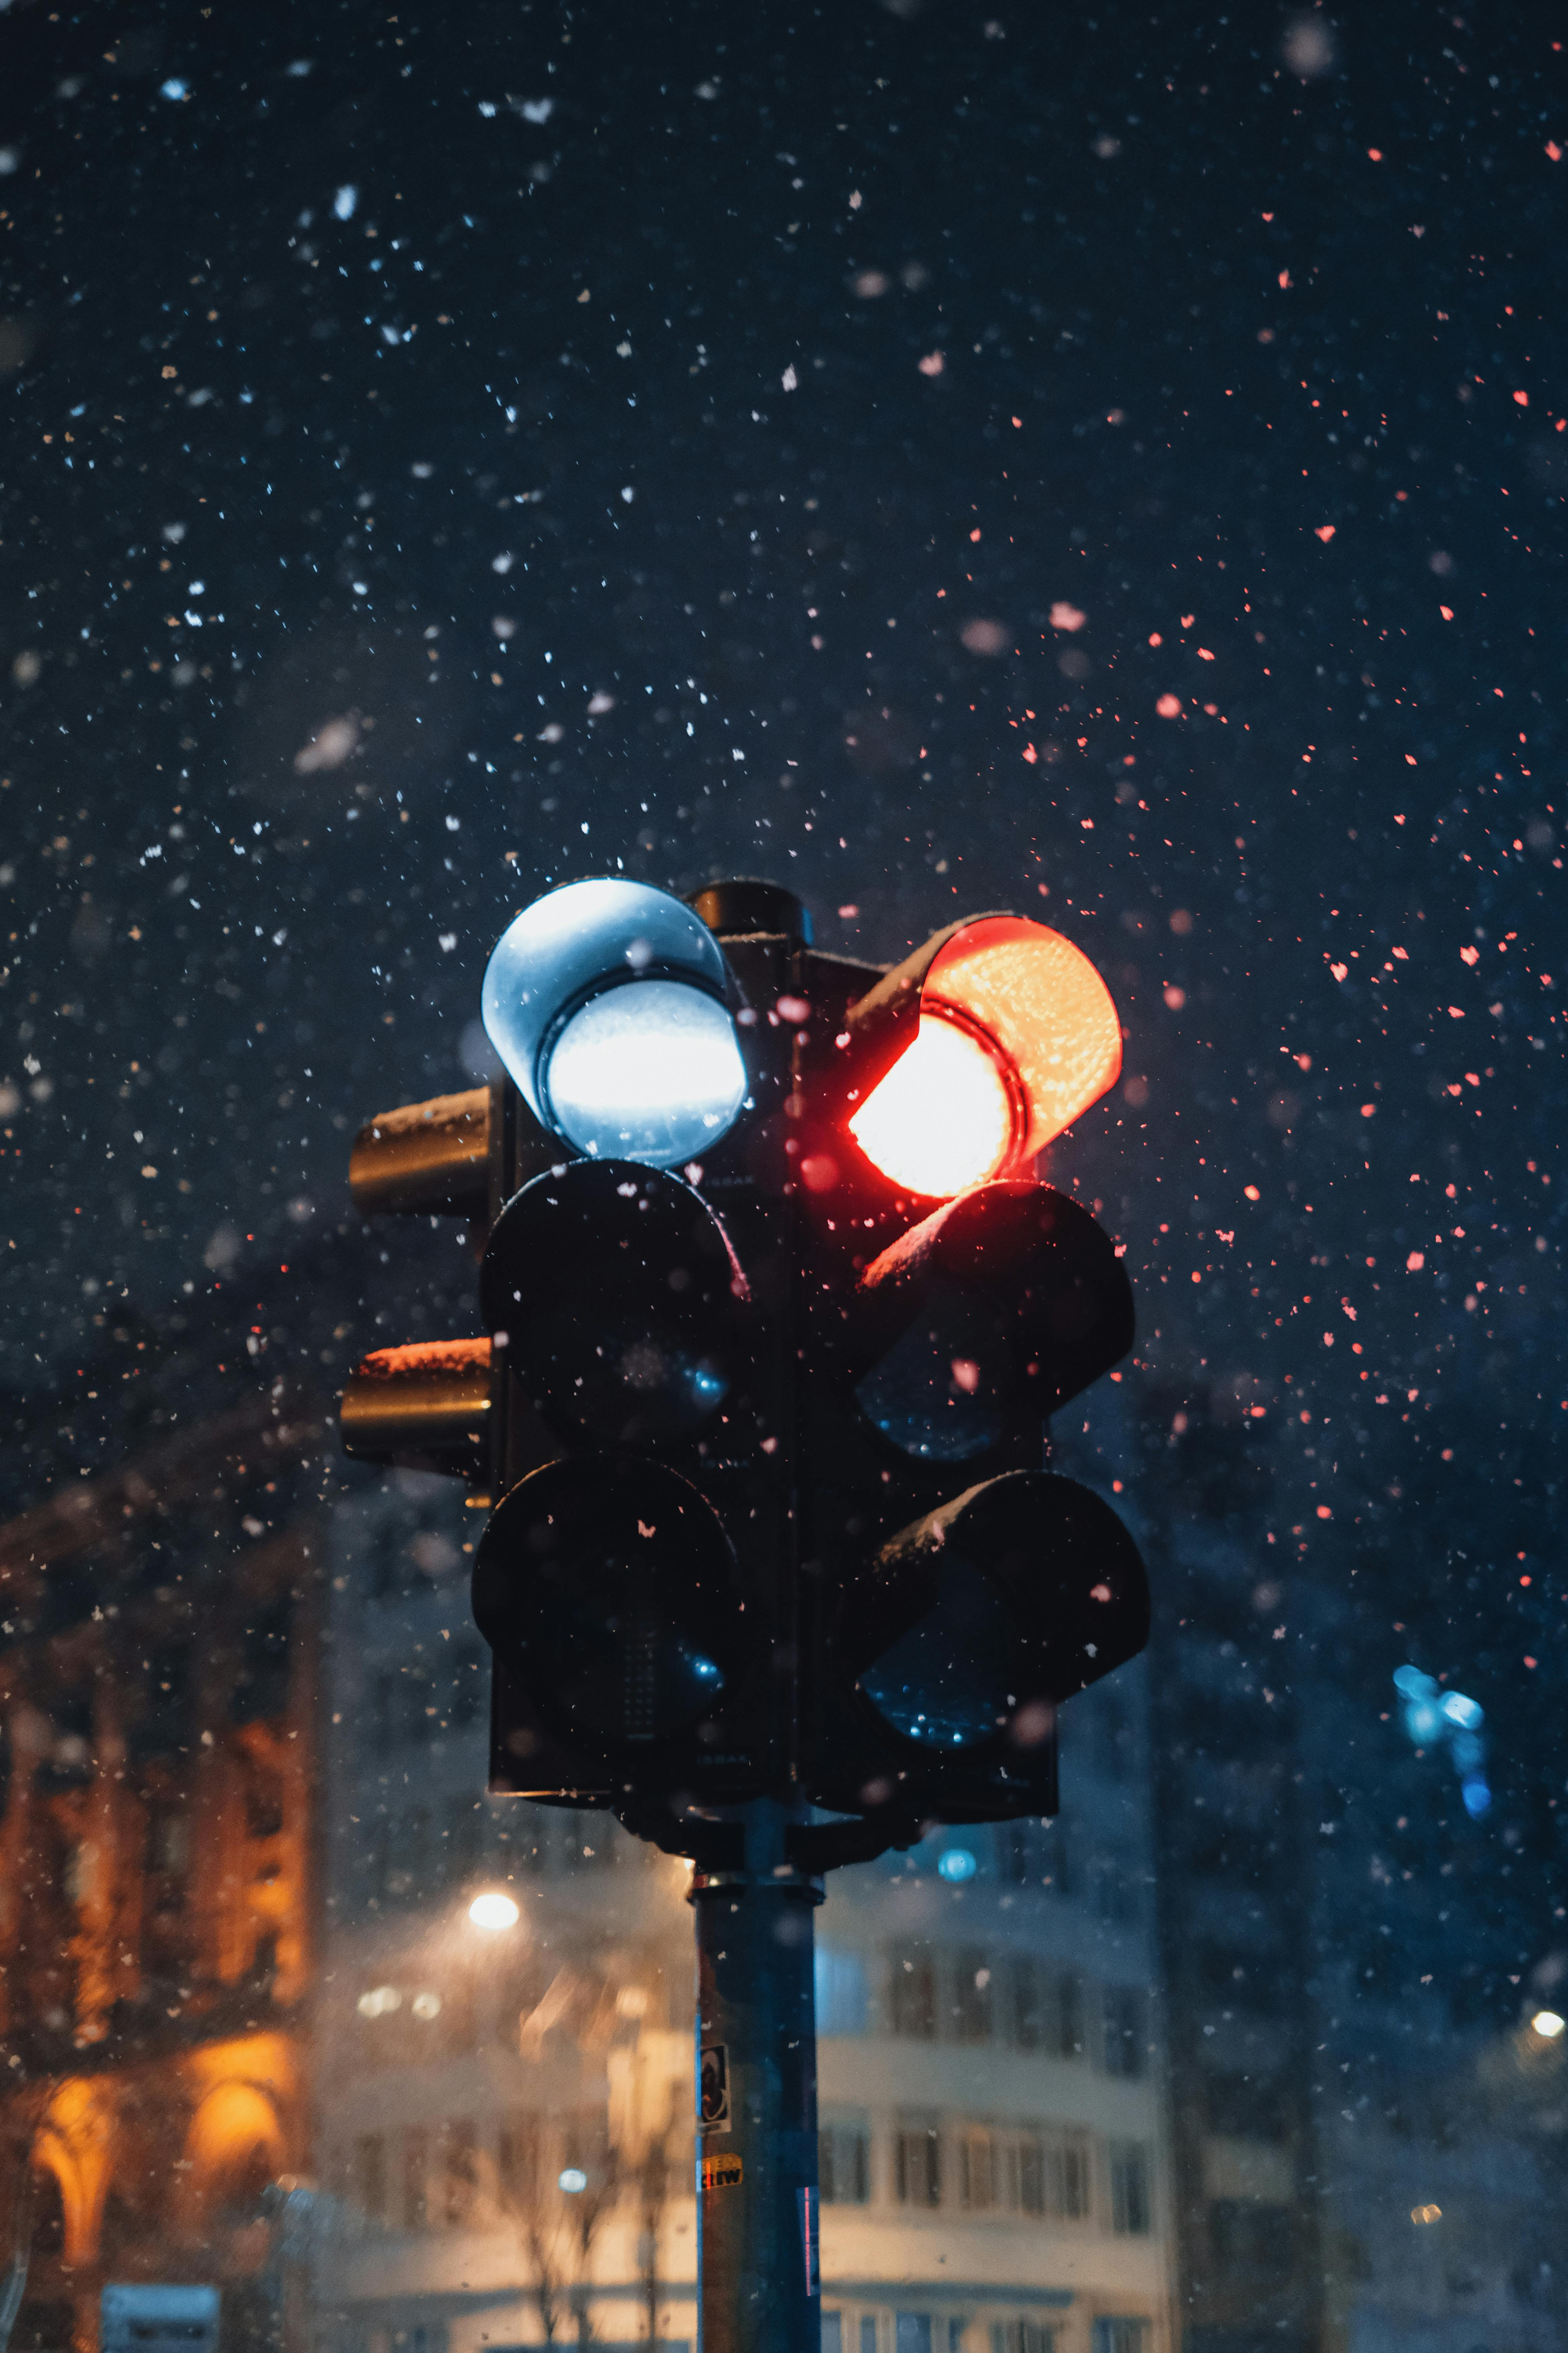trfl: (810, 868, 1143, 1856), (462, 889, 787, 1826)
